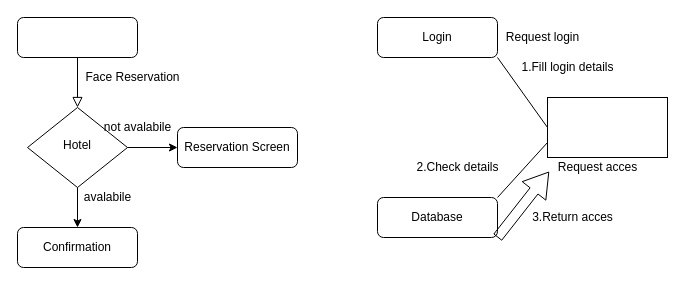
Image size: 685x285. Some labels were removed from this diagram. The shapes that lost their labels are listed below. From the top down, each one's centre as x and y in pixels, then its label:
At [77,37]: "Employee".
At [607,127]: "Authentification System".
